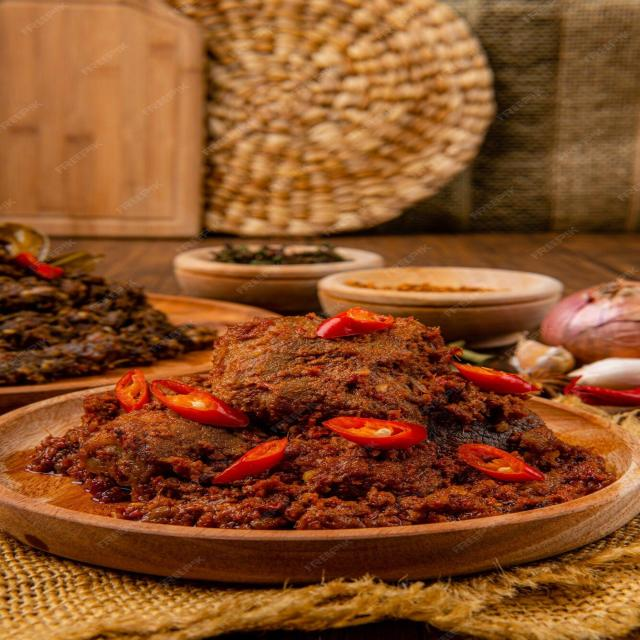Rendang: (31, 309, 606, 534)
